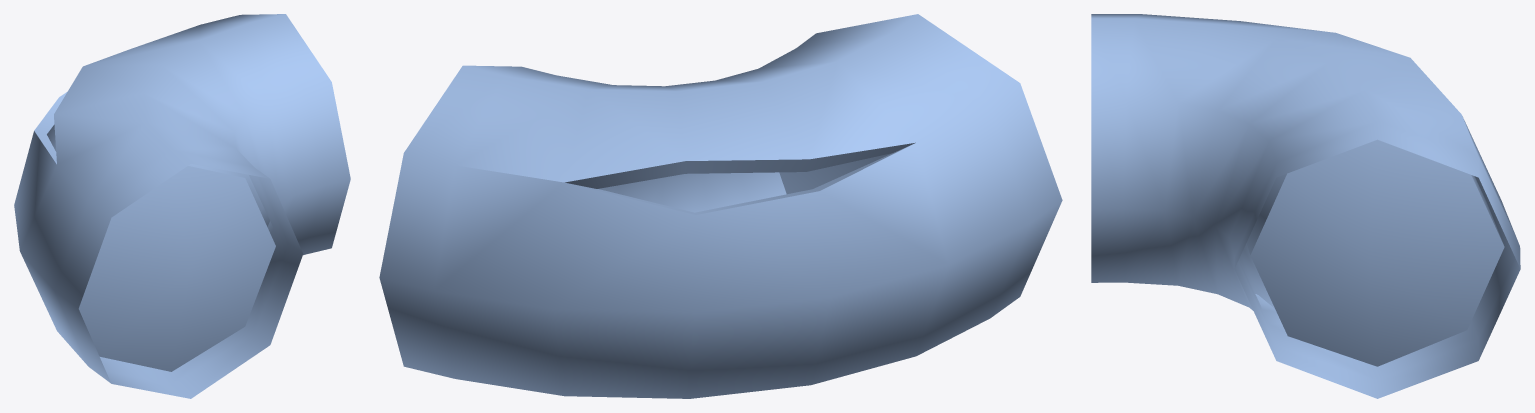
File: PipeSmall_BrokenBent_01.fbx
3 views of the same model, side by side, from view 1: azimuth 30°, elevation 25°; view 2: azimuth 150°, elevation 25°; view 3: azimuth 270°, elevation 25° (orthographic). The views are drawn at different scales.
Parts seen in each view (by area): view 1: PipeSmall_BrokenBent_01.001; view 2: PipeSmall_BrokenBent_01.001; view 3: PipeSmall_BrokenBent_01.001.
Part boxes in pixels (x1,y1,x2,y2): PipeSmall_BrokenBent_01.001: (14,14,350,398); PipeSmall_BrokenBent_01.001: (379,14,1062,398); PipeSmall_BrokenBent_01.001: (1091,14,1520,398).
Bounding box in the file's own units: 0.15 × 0.1 × 0.15.
